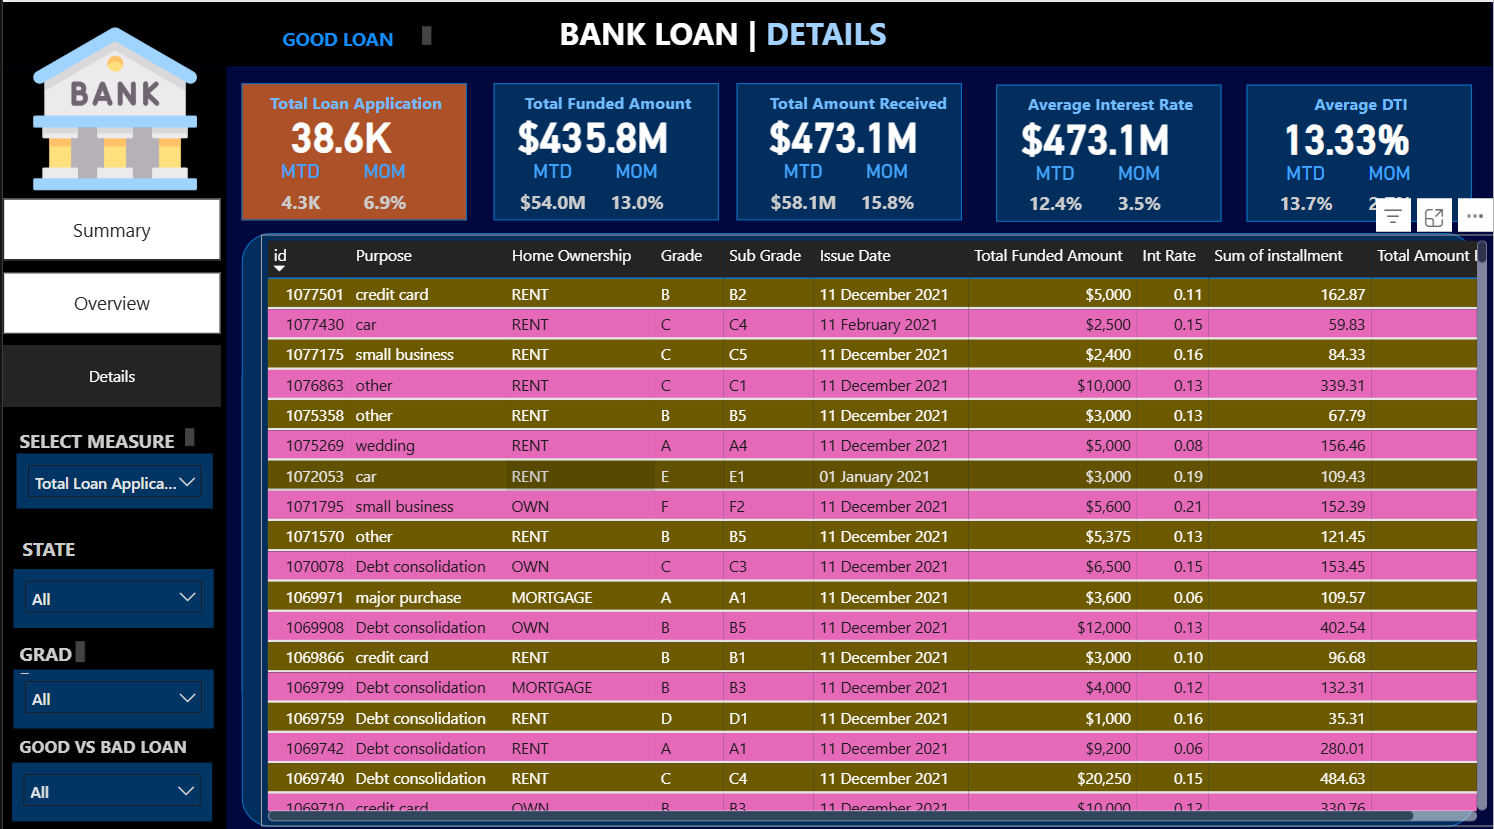

The page's visual inventory and layout, read from the dashboard file:
{"tool":"powerbi","page":{"name":"Details","canvas":[1280,720],"ordinal":2},"visuals":[{"type":"shape","box":[420.6,69.3,193.7,118.1],"z":0,"group":"g2"},{"type":"shape","box":[630.1,69.3,193.7,118.1],"z":0,"group":"g3"},{"type":"shape","box":[204.9,69.8,193.7,118.1],"z":0,"group":"g1"},{"type":"shape","box":[852.1,70.9,193.7,118.1],"z":0,"group":"g5"},{"type":"shape","box":[1067.9,70.9,193.7,118.1],"z":0,"group":"g4"},{"type":"shape","box":[204.8,198.5,1060,510.3],"z":0},{"type":"shape","box":[0,0,1279,55.1],"z":1000},{"type":"card","fields":{"Values":["financial_loan.Total Funded Amount"]},"box":[420.6,70.9,170.1,85.1],"z":1000,"group":"g2"},{"type":"card","fields":{"Values":["financial_loan.Total Amount Received"]},"box":[636.4,70.9,170.1,85.1],"z":1000,"group":"g3"},{"type":"card","fields":{"Values":["financial_loan.Total Loan Application"]},"box":[204.9,71.4,170.1,85.1],"z":1000,"group":"g1"},{"type":"card","fields":{"Values":["financial_loan.Total Amount Received"]},"box":[852.1,72.5,170.1,85.1],"z":1000,"group":"g5"},{"type":"card","fields":{"Values":["financial_loan.Avg DTI"]},"box":[1067.9,72.5,170.1,85.1],"z":1000,"group":"g4"},{"type":"shape","box":[0,55.4,192,664.9],"z":2000},{"type":"textbox","box":[192.2,15.8,181.1,36.2],"z":3000},{"type":"textbox","box":[420.6,70.9,196.9,33.1],"z":3000,"group":"g2"},{"type":"textbox","box":[636.4,70.9,196.9,33.1],"z":3000,"group":"g3"},{"type":"textbox","box":[204.9,71.4,196.9,33.1],"z":3000,"group":"g1"},{"type":"textbox","box":[852.1,72.5,196.9,33.1],"z":3000,"group":"g5"},{"type":"textbox","box":[1067.9,72.5,196.9,33.1],"z":3000,"group":"g4"},{"type":"textbox","box":[472.9,2.6,335,49],"z":4000},{"type":"group","id":"g1","title":"Group 1","box":[179.7,69.8,225.2,122.9],"z":5000},{"type":"card","title":"MTD","fields":{"Values":["financial_loan.MTD Funded Amount"]},"box":[395.4,135.5,152.8,56.7],"z":5000,"group":"g2"},{"type":"card","title":"MTD","fields":{"Values":["financial_loan.MTD Amount Received"]},"box":[611.2,135.5,152.8,56.7],"z":5000,"group":"g3"},{"type":"card","title":"MTD","fields":{"Values":["financial_loan.MTD Loan Application"]},"box":[179.7,136,152.8,56.7],"z":5000,"group":"g1"},{"type":"card","title":"MTD","fields":{"Values":["financial_loan.MTD Average Interest Rate"]},"box":[826.9,137.1,152.8,56.7],"z":5000,"group":"g5"},{"type":"card","title":"MTD","fields":{"Values":["financial_loan.MTD DTI"]},"box":[1042.7,137.1,152.8,56.7],"z":5000,"group":"g4"},{"type":"group","id":"g2","title":"Group 1","box":[395.4,69.3,225.2,122.9],"z":6000},{"type":"group","id":"g3","title":"Group 1","box":[611.2,69.3,225.2,122.9],"z":7000},{"type":"card","title":"MOM","fields":{"Values":["financial_loan.MOM Funded Amount"]},"box":[467.9,135.5,152.8,56.7],"z":7000,"group":"g2"},{"type":"card","title":"MOM","fields":{"Values":["financial_loan.MOM Amount Received"]},"box":[683.7,135.5,152.8,56.7],"z":7000,"group":"g3"},{"type":"card","title":"MOM","fields":{"Values":["financial_loan.MOM Loan Application"]},"box":[252.2,136,152.8,56.7],"z":7000,"group":"g1"},{"type":"card","title":"MOM","fields":{"Values":["financial_loan.MOM Avg Interest Rate"]},"box":[899.4,137.1,152.8,56.7],"z":7000,"group":"g5"},{"type":"card","title":"MOM","fields":{"Values":["financial_loan.MOM DTI"]},"box":[1115.2,137.1,152.8,56.7],"z":7000,"group":"g4"},{"type":"group","id":"g4","title":"Group 1","box":[1042.7,70.9,225.2,122.9],"z":8000},{"type":"group","id":"g5","title":"Group 1","box":[826.9,70.9,225.2,122.9],"z":9000},{"type":"slicer","fields":{"Values":["financial_loan.address_state"]},"box":[9.5,486.7,171.7,50.4],"z":10000},{"type":"textbox","box":[11,453.6,66.2,37.8],"z":11000},{"type":"slicer","fields":{"Values":["financial_loan.grade"]},"box":[9.5,573.3,171.7,50.4],"z":12000},{"type":"textbox","box":[9.5,543.4,66.2,37.8],"z":13000},{"type":"slicer","fields":{"Values":["financial_loan.Good VS Bad Loan"]},"box":[7.9,653.7,171.7,50.4],"z":14000},{"type":"textbox","box":[9.5,623.7,195.3,29.9],"z":15000},{"type":"slicer","fields":{"Values":["Select Measure.Select Measure"]},"box":[11,387.5,168.5,47.3],"z":16000},{"type":"textbox","box":[9.5,360.7,160.7,26.8],"z":17000},{"type":"tableEx","fields":{"Values":["financial_loan.id","financial_loan.purpose","financial_loan.home_ownership","financial_loan.grade","financial_loan.sub_grade","financial_loan.issue_date","financial_loan.Total Funded Amount","financial_loan.int_rate","Sum(financial_loan.installment)","financial_loan.Total Amount Received"]},"box":[222.1,200,1058.5,508.8],"z":18000},{"type":"image","box":[20.5,15.8,151.2,152.8],"z":19000},{"type":"pageNavigator","box":[0,168.5,187.4,179.6],"z":20000}]}

Visuals, with their boxes on the page's 1280x720 design canvas (x1, y1, x2, y2). These are canvas units, not pixel positions in the 1494x829 screenshot, which may show the page scaled, cropped or inside an application window:
shape: 421/69/614/187
shape: 630/69/824/187
shape: 205/70/399/188
shape: 852/71/1046/189
shape: 1068/71/1262/189
shape: 205/198/1265/709
shape: 0/0/1279/55
card - financial_loan.Total Funded Amount: 421/71/591/156
card - financial_loan.Total Amount Received: 636/71/806/156
card - financial_loan.Total Loan Application: 205/71/375/156
card - financial_loan.Total Amount Received: 852/72/1022/158
card - financial_loan.Avg DTI: 1068/72/1238/158
shape: 0/55/192/720
textbox: 192/16/373/52
textbox: 421/71/618/104
textbox: 636/71/833/104
textbox: 205/71/402/104
textbox: 852/72/1049/106
textbox: 1068/72/1265/106
textbox: 473/3/808/52
"Group 1" group: 180/70/405/193
"MTD" card: 395/136/548/192
"MTD" card: 611/136/764/192
"MTD" card: 180/136/332/193
"MTD" card: 827/137/980/194
"MTD" card: 1043/137/1196/194
"Group 1" group: 395/69/621/192
"Group 1" group: 611/69/836/192
"MOM" card: 468/136/621/192
"MOM" card: 684/136/836/192
"MOM" card: 252/136/405/193
"MOM" card: 899/137/1052/194
"MOM" card: 1115/137/1268/194
"Group 1" group: 1043/71/1268/194
"Group 1" group: 827/71/1052/194
slicer - financial_loan.address_state: 10/487/181/537
textbox: 11/454/77/491
slicer - financial_loan.grade: 10/573/181/624
textbox: 10/543/76/581
slicer - financial_loan.Good VS Bad Loan: 8/654/180/704
textbox: 10/624/205/654
slicer - Select Measure.Select Measure: 11/388/180/435
textbox: 10/361/170/388
tableEx - financial_loan.id x financial_loan.purpose: 222/200/1281/709
image: 20/16/172/169
pageNavigator: 0/168/187/348
